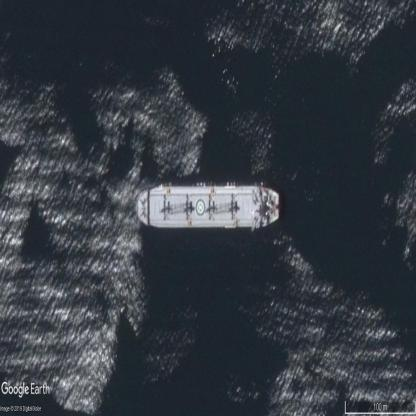ship: (137, 185, 279, 228)
